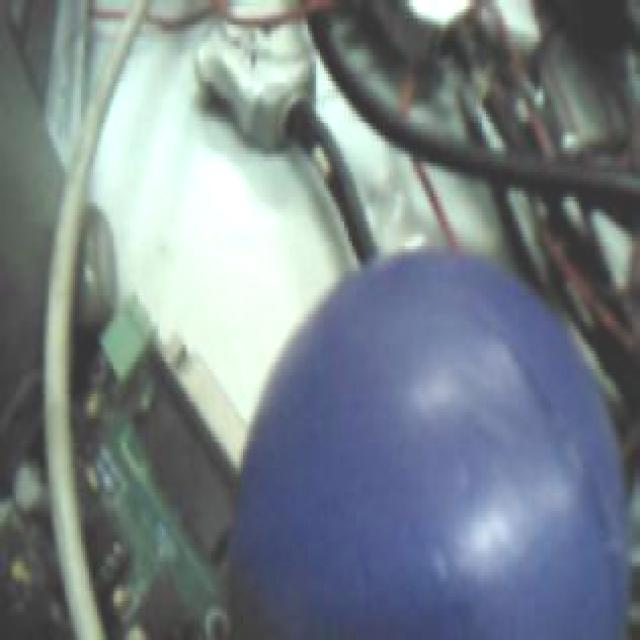BallPurple: (240, 250, 628, 640)
